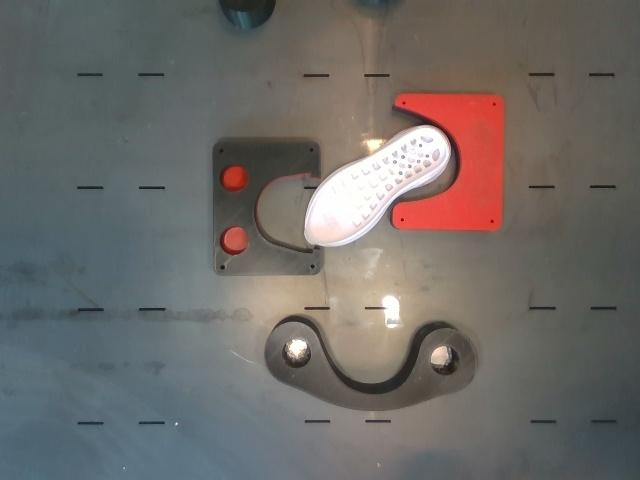shoes: (305, 128, 448, 245)
